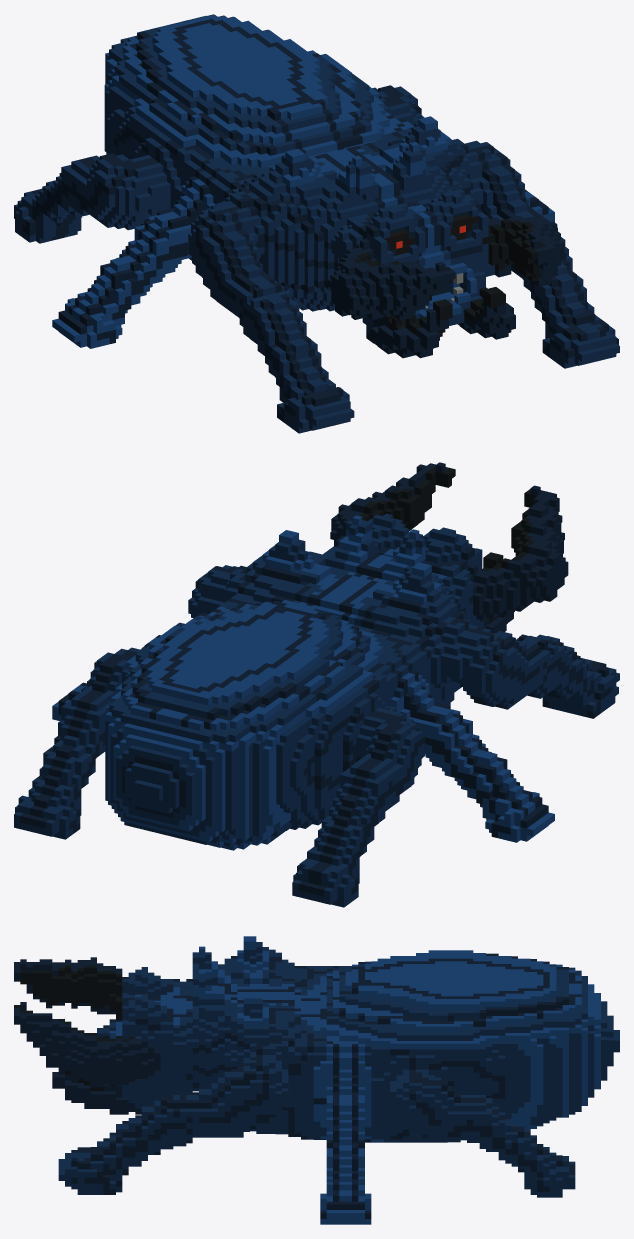
File: beetle_dead_blue_v1-0.obj
The picture shows the model from 3 angles, top to bottom: view 1: azimuth 30°, elevation 25°; view 2: azimuth 150°, elevation 25°; view 3: azimuth 270°, elevation 25°; orthographic projection. The views are drawn at different scales.
Bounding box in the file's own units: 7.6 × 2.9 × 9.5.
1 material, 1 textured.
